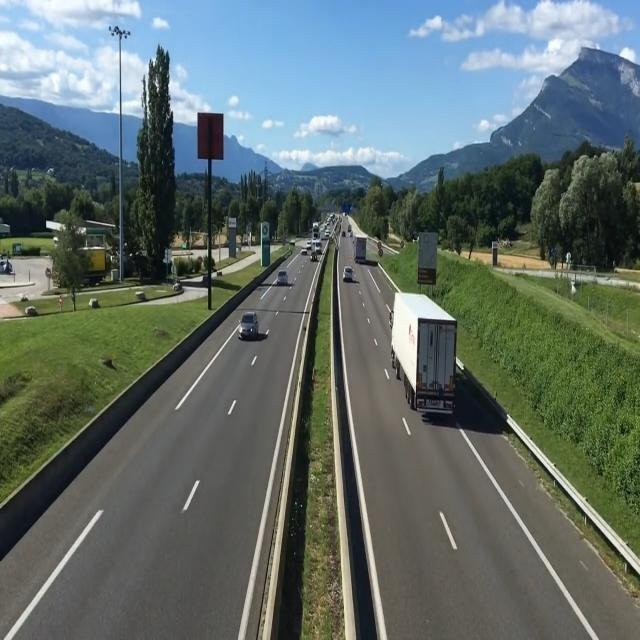Car: (235, 311, 263, 341), (272, 264, 296, 290), (342, 266, 358, 286), (307, 250, 319, 263)
Truck: (386, 290, 456, 417), (348, 232, 371, 264)
